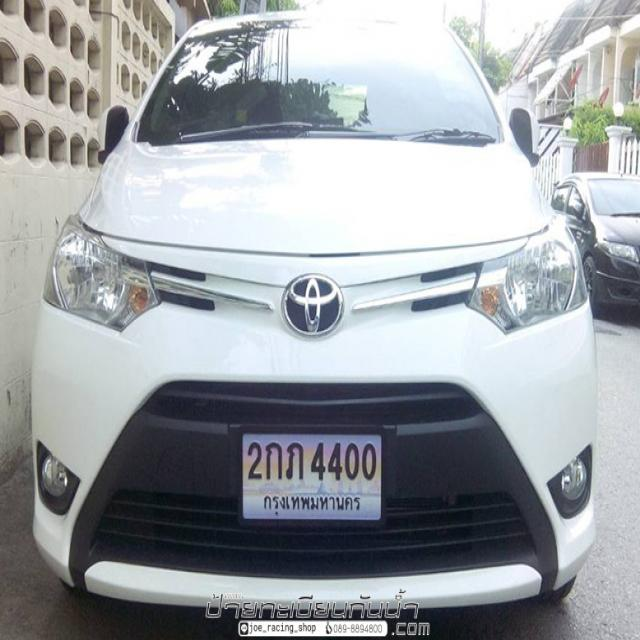license_plate: (236, 424, 394, 528)
